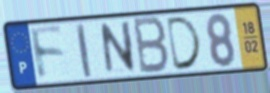8: (204, 12, 237, 70)
B: (132, 15, 171, 76)
D: (165, 14, 205, 73)
F: (28, 25, 67, 84)
I: (74, 21, 94, 81)
N: (99, 19, 138, 77)
